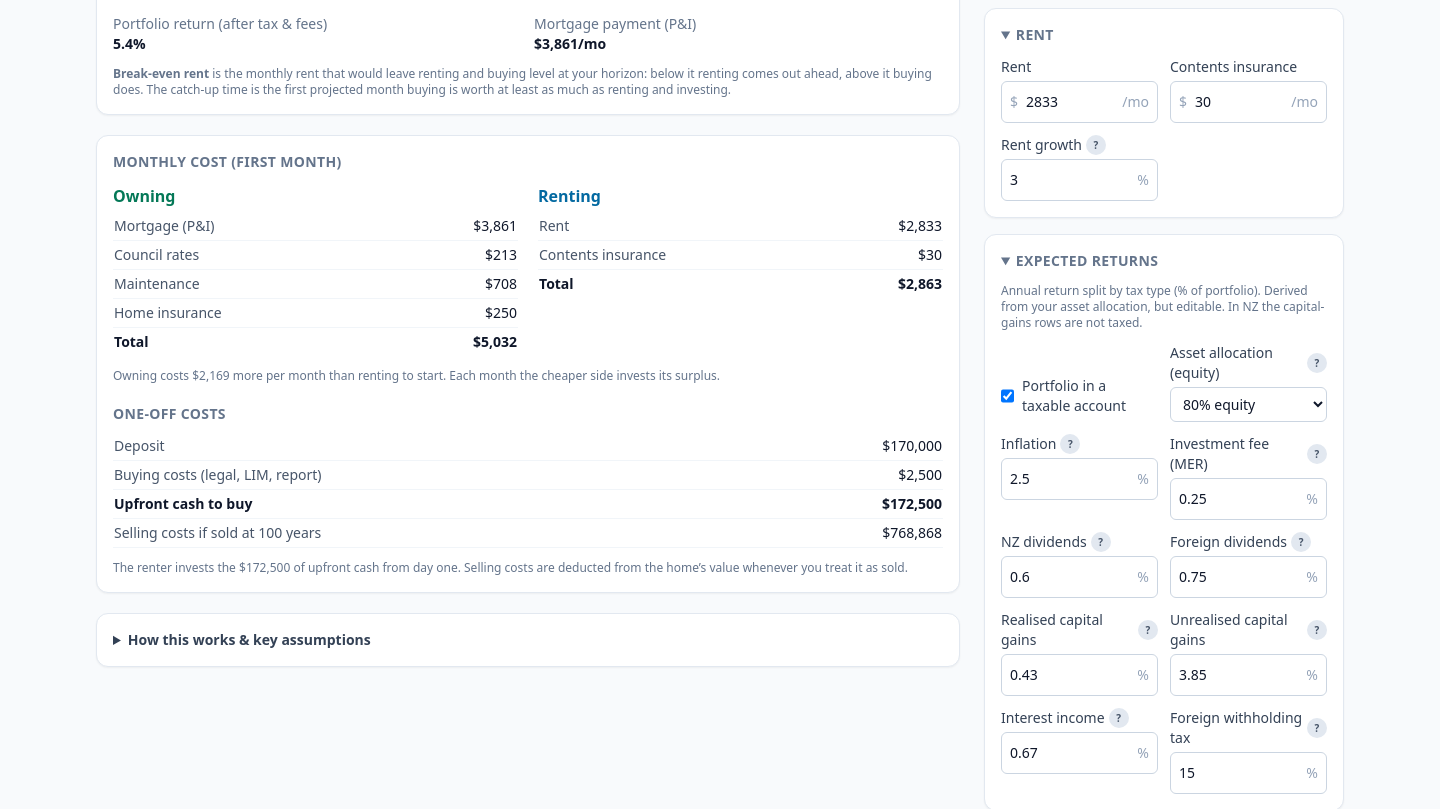
Test case: App (smoke) › still resets return assumptions when asset allocation changes
(page scrolled)
Select "100% equity" in the dropdown. click: (1248,404)
box: [1170, 387, 1327, 422]
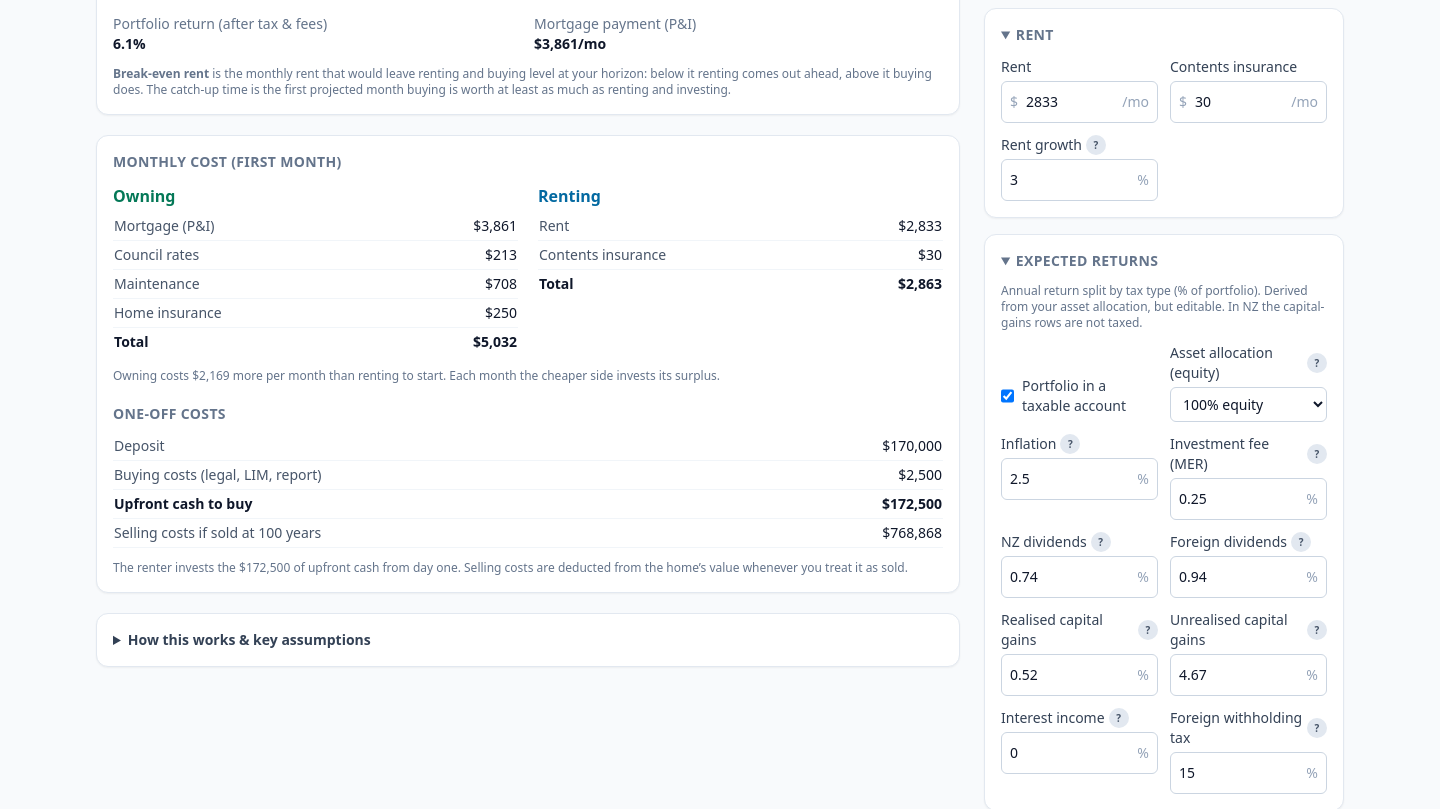
Expected: the number field labelled "Interest income ?" holds "0", [1002, 733, 1137, 773]
Expected: the number field labelled "Foreign dividends ?" holds "0.94", [1171, 557, 1306, 597]
